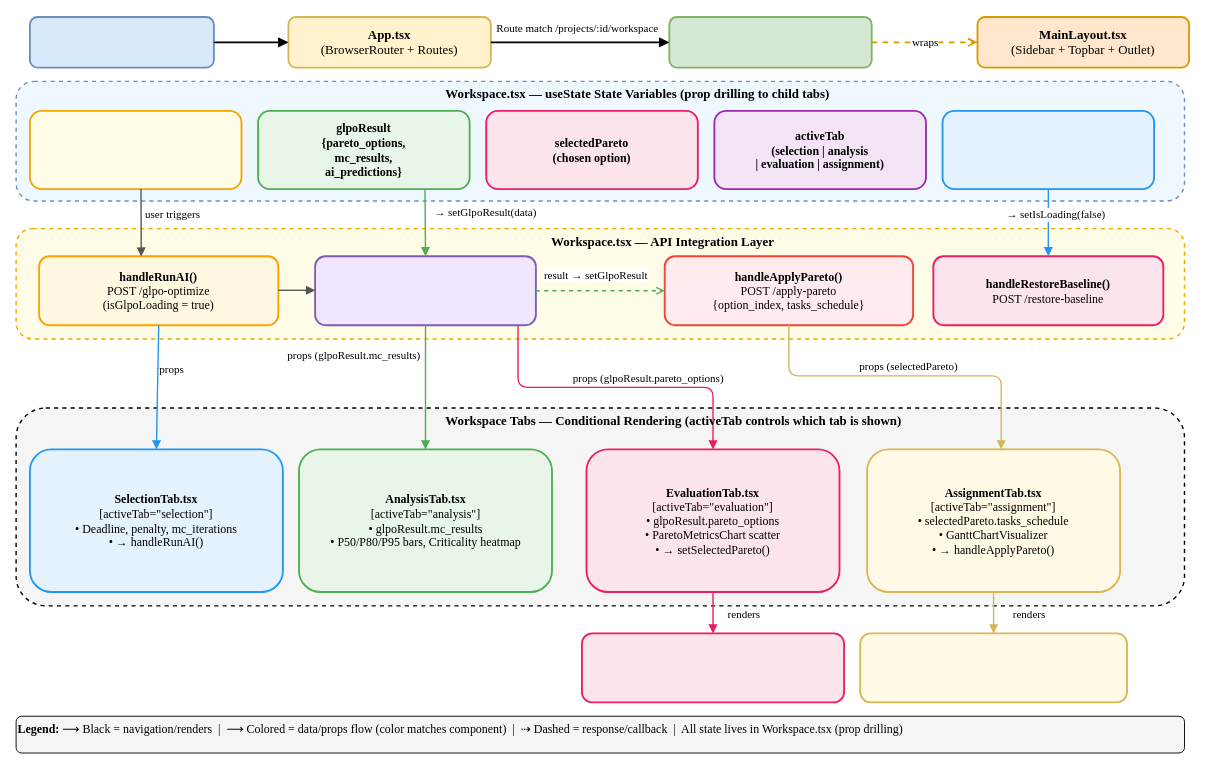
Some shapes in this 1206 by 769 pixel diagram are drawn without their labels. The centre of each missing label's shape, as x and y in pixels:
"Browser URL: /projects/:id/workspace" goes at [121,42].
"EventSource /simulation-stream onmessage → progress %" goes at [425,290].
"GanttChartVisualizer.tsx (Timeline bars per task, D3 / custom SVG)" goes at [993,667].
"isGlpoLoading (boolean)" goes at [1048,149].
"ParetoMetricsChart.tsx (Recharts Scatter Plot: makespan vs cost, color=risk)" goes at [713,667].
"projectData (ProjectDetail)" goes at [135,149].
"Workspace.tsx (Main Page Component)" goes at [770,42].
